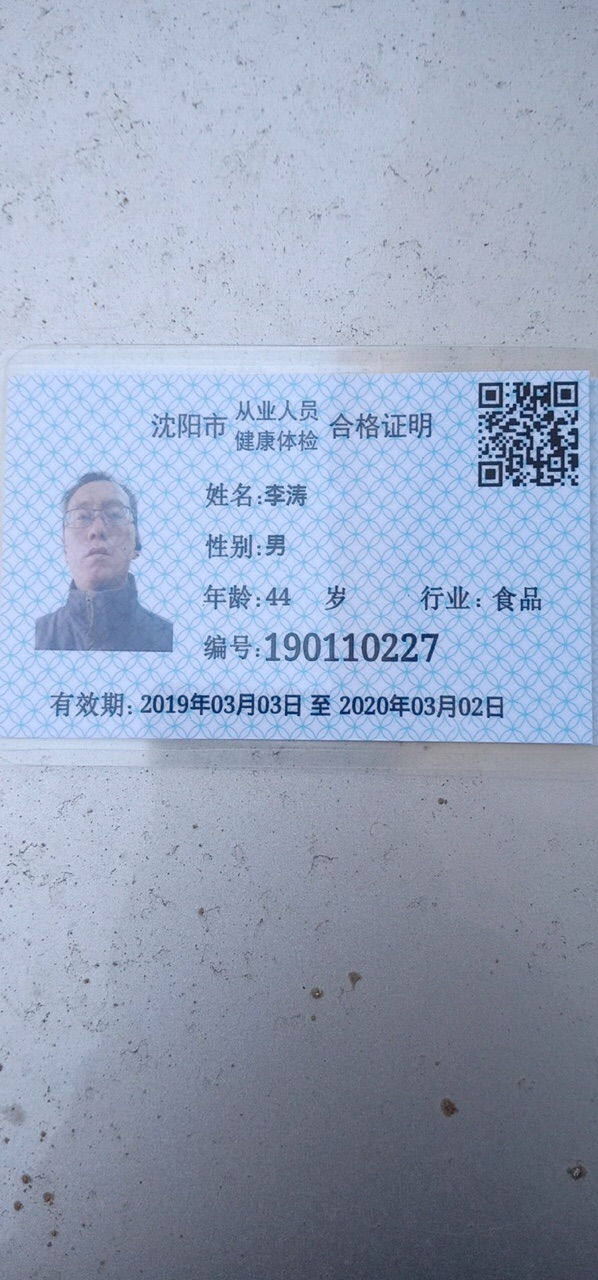qr: (477, 379, 579, 487)
